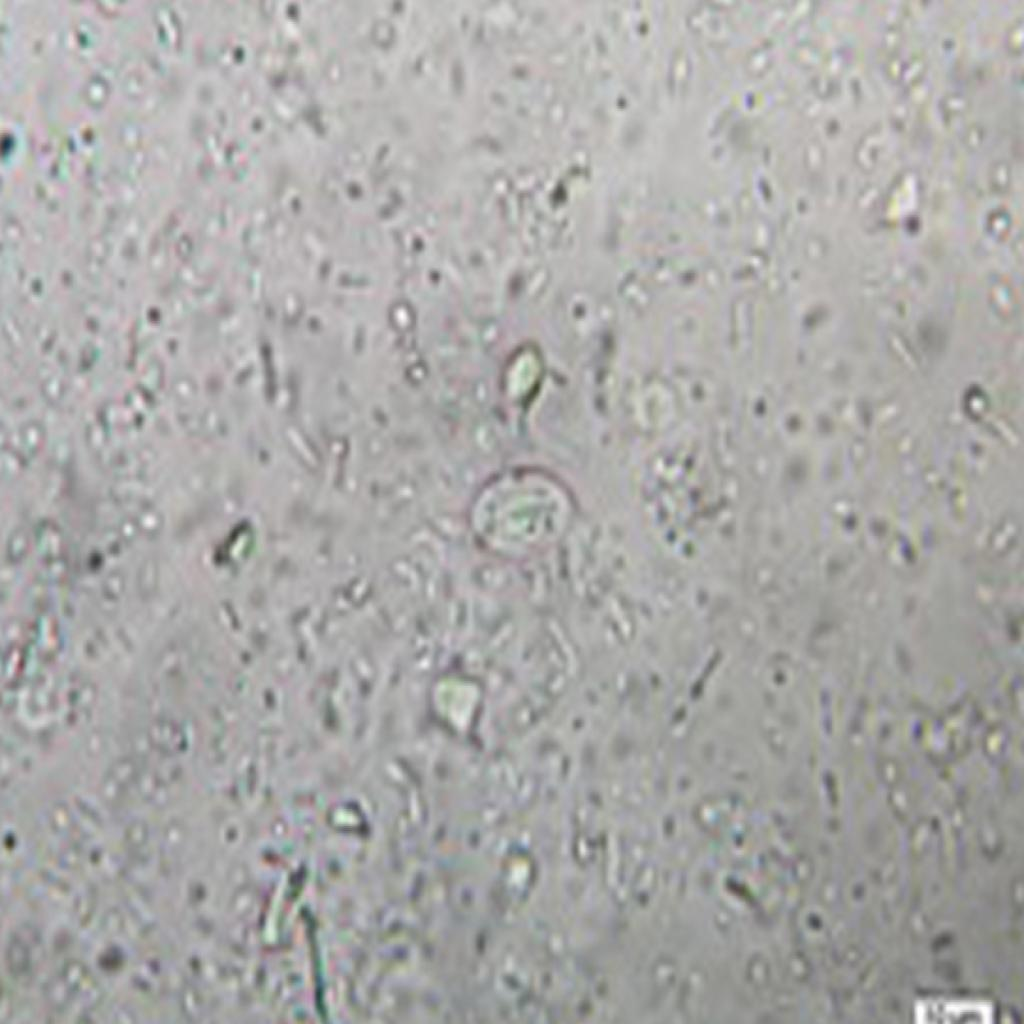Giardia: (468, 452, 585, 563)
